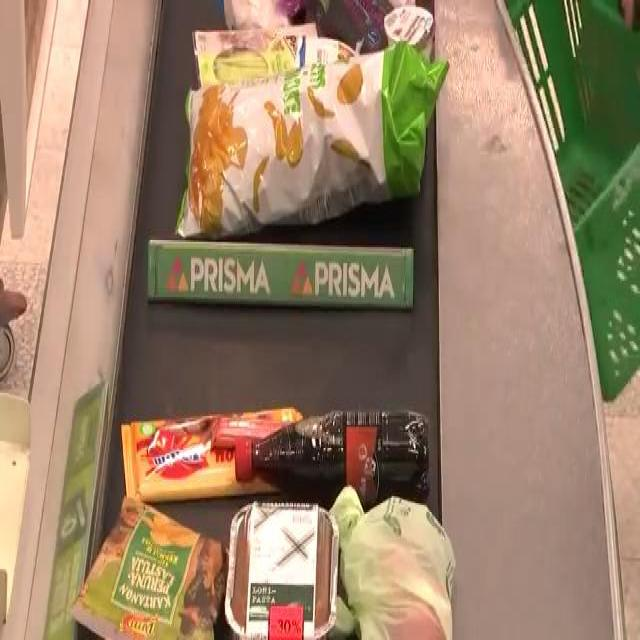beverage: (233, 410, 432, 504), (224, 498, 345, 631)
food-box: (185, 47, 450, 237), (78, 492, 226, 640), (117, 393, 312, 505), (193, 28, 330, 79), (385, 9, 438, 67)
vegetable: (358, 496, 452, 640)
